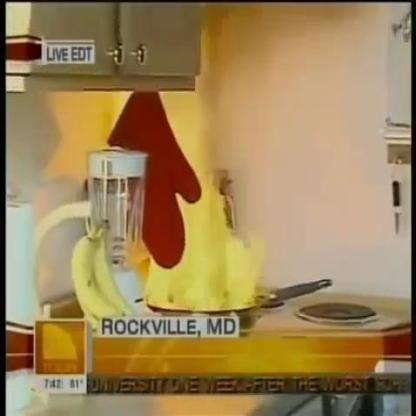fire: (134, 90, 263, 316)
